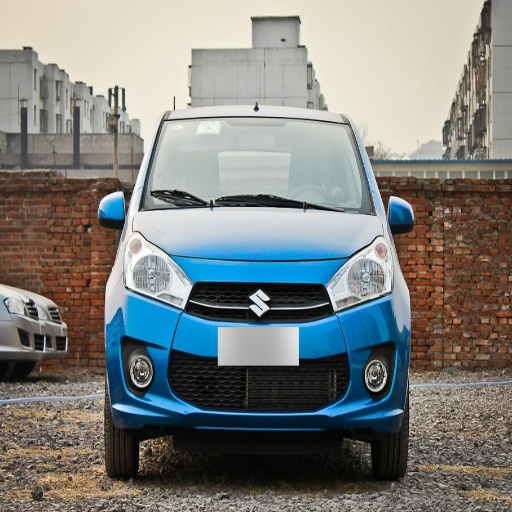front_bumper: (106, 256, 408, 450), (2, 315, 47, 359)
front_right_light: (124, 239, 186, 305)
hood: (135, 208, 380, 258)
